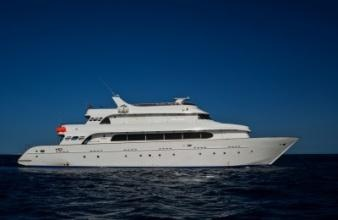yacht: (14, 81, 306, 173)
